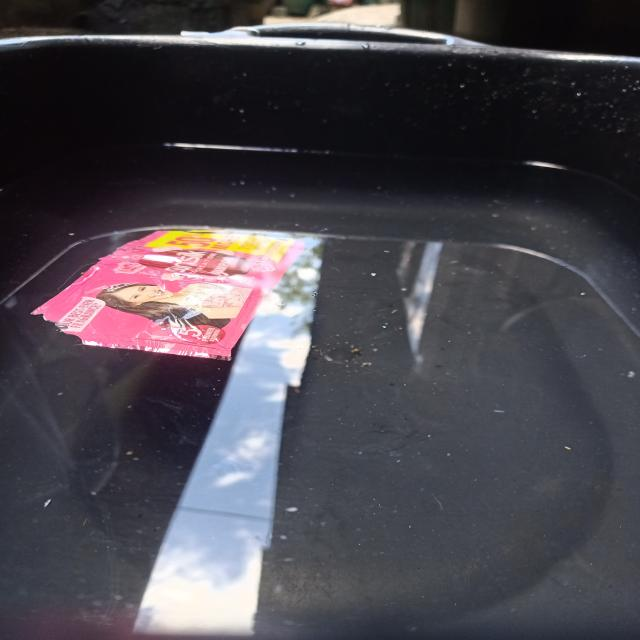Plastic Wrapper: (23, 216, 316, 366)
